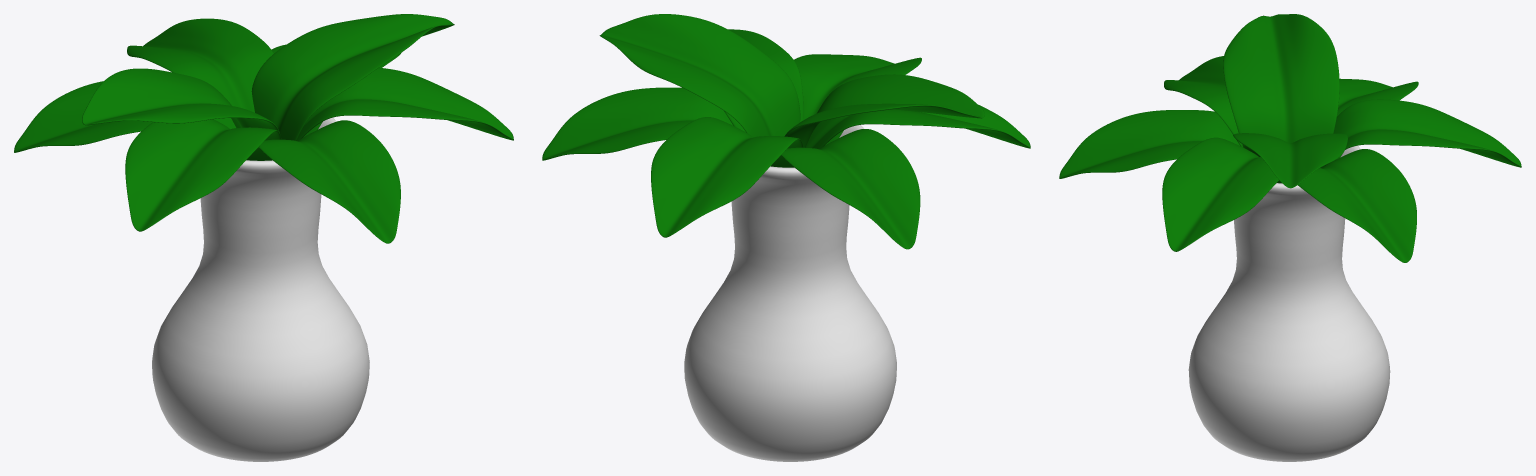
File: PlantVase.fbx
3 renders of one model, left to right at view 1: azimuth 30°, elevation 25°; view 2: azimuth 150°, elevation 25°; view 3: azimuth 270°, elevation 25°, orthographic. The views are drawn at different scales.
Parts seen in each view (by area): view 1: vaas; view 2: vaas; view 3: vaas.
Part boxes in pixels (x1,y1,x2,y2): vaas: (14, 14, 513, 461); vaas: (542, 14, 1030, 461); vaas: (1059, 14, 1521, 461).
Size of the model in its own units: 132 by 127 by 150.
